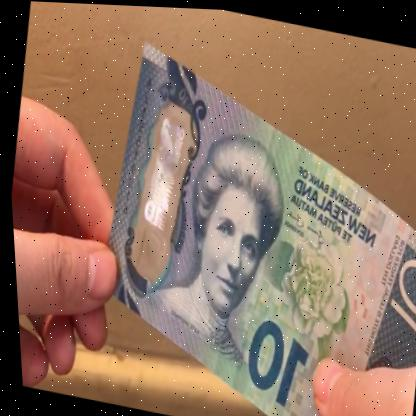10B: (130, 107, 196, 230)
